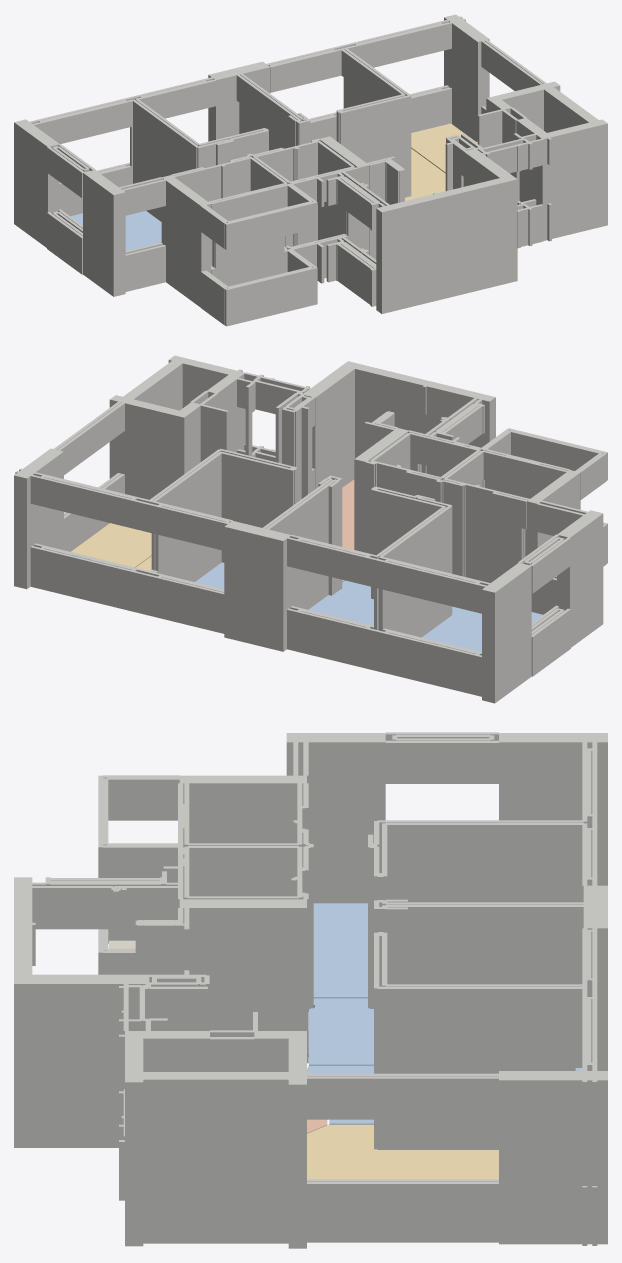
3 views of the same model, one above another, from view 1: azimuth 30°, elevation 25°; view 2: azimuth 150°, elevation 25°; view 3: azimuth 270°, elevation 25° (orthographic). The views are drawn at different scales.
Parts seen in each view (by area): view 1: walls, room:living:8, room:bedroom:10, room:living:7; view 2: walls, room:living:8, room:bedroom:1, room:bedroom:10, room:kitchen:5; view 3: walls, room:living:7, room:bedroom:10, room:bedroom:1, room:bedroom:2.
Part boxes in pixels (<box>): walls: <box>14,14,607,326</box>; room:living:8: <box>411,123,477,173</box>; room:bedroom:10: <box>70,211,161,250</box>; room:living:7: <box>405,149,445,200</box>; walls: <box>14,355,607,703</box>; room:living:8: <box>71,523,151,567</box>; room:bedroom:1: <box>308,580,373,625</box>; room:bedroom:10: <box>422,606,543,652</box>; room:kitchen:5: <box>342,479,354,549</box>; walls: <box>14,732,607,1248</box>; room:living:7: <box>307,1124,498,1179</box>; room:bedroom:10: <box>313,903,367,998</box>; room:bedroom:1: <box>308,998,373,1065</box>; room:bedroom:2: <box>307,1065,582,1124</box>.
Bounding box in the file's own units: 12.9 × 2.8 × 9.19.
